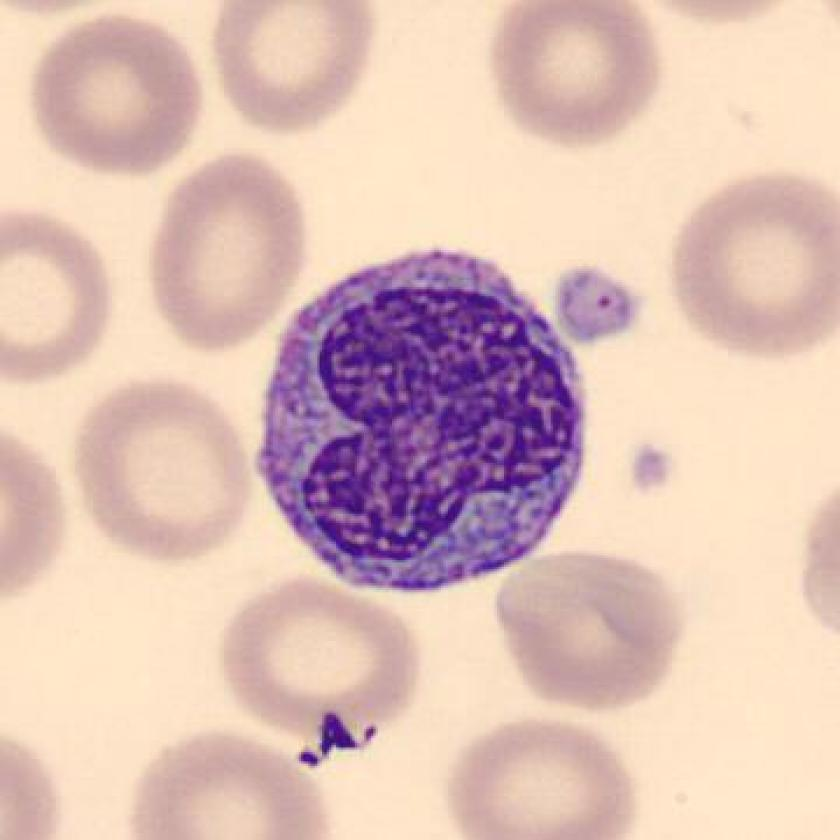monocyte: (230, 230, 598, 612)
